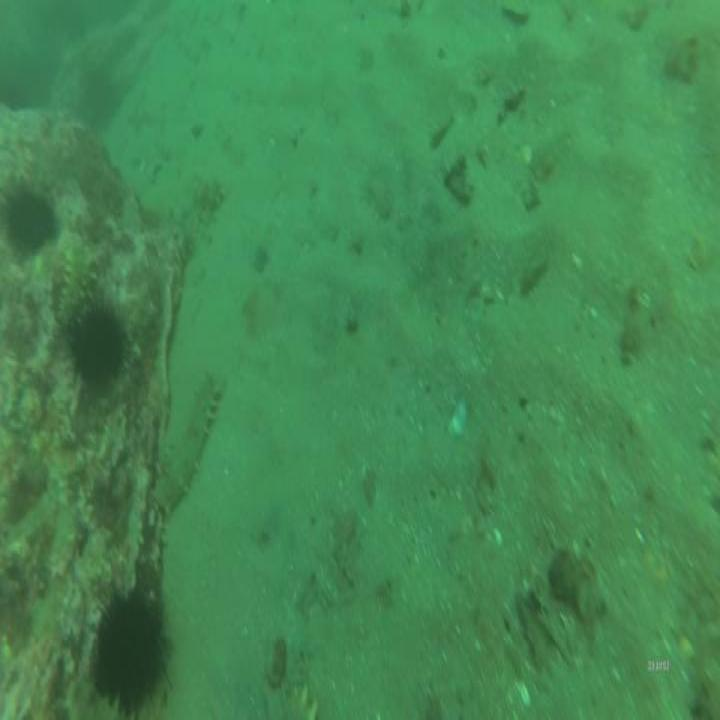echinus: (82, 562, 178, 720), (67, 289, 132, 394), (4, 169, 62, 267)
holothurian: (148, 361, 225, 521), (53, 242, 93, 332)
